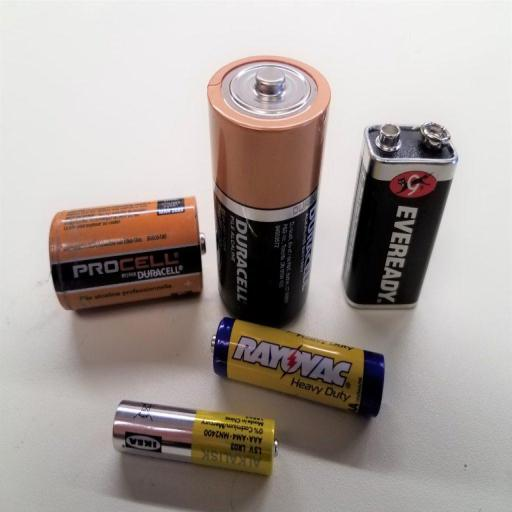battery: (205, 54, 330, 326), (342, 120, 458, 312), (210, 316, 386, 423), (50, 196, 206, 316), (110, 398, 280, 477)
